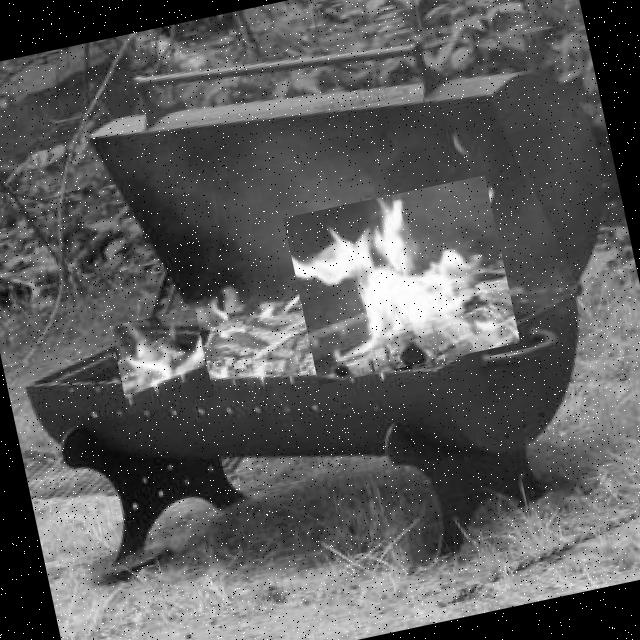fire: (283, 174, 520, 384), (110, 308, 213, 414)
